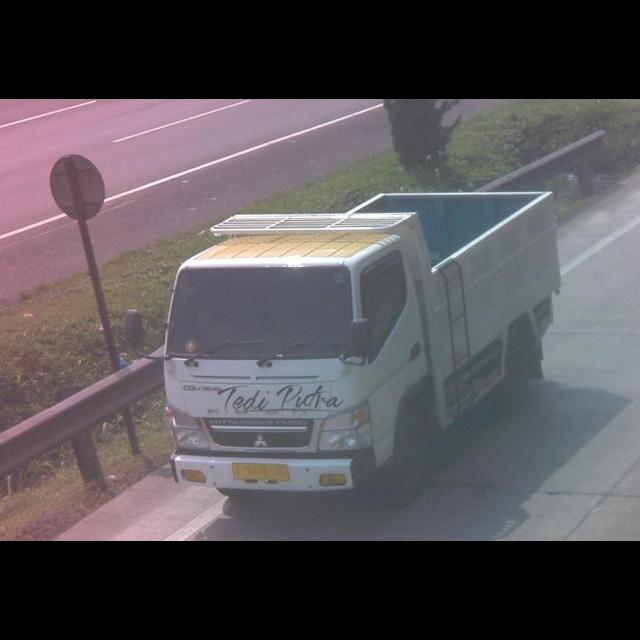plate: (230, 460, 290, 484)
